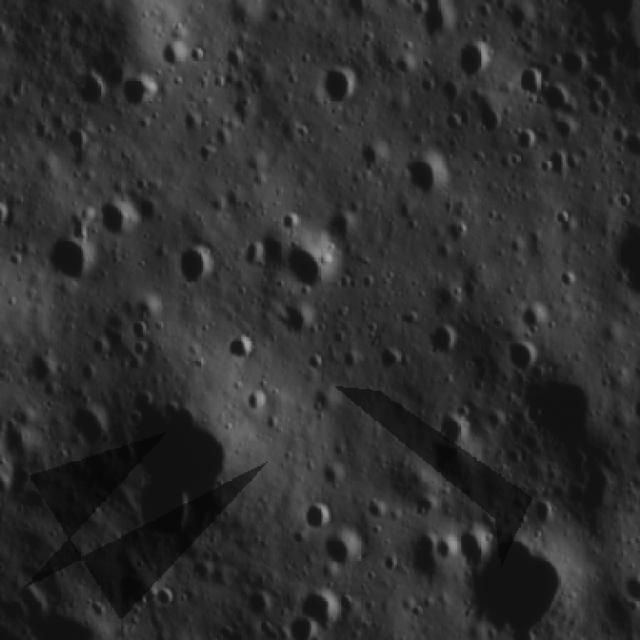crater: (468, 546, 572, 626), (296, 227, 336, 301), (52, 232, 99, 283), (99, 196, 155, 236), (401, 153, 452, 196), (295, 592, 342, 634), (327, 532, 367, 580), (174, 246, 212, 289), (450, 47, 488, 82), (295, 499, 337, 530), (122, 73, 152, 109), (432, 318, 459, 356), (78, 74, 113, 103), (520, 120, 546, 154), (516, 304, 550, 328), (230, 327, 258, 356), (515, 67, 542, 96), (153, 584, 185, 608), (326, 69, 349, 102), (508, 341, 532, 372), (544, 85, 570, 112), (245, 387, 270, 415), (319, 459, 343, 487), (562, 49, 587, 74), (442, 412, 463, 441), (162, 44, 188, 65), (588, 72, 604, 101), (554, 208, 575, 230), (307, 352, 327, 373), (559, 268, 579, 287), (132, 322, 152, 340), (618, 189, 633, 209)
